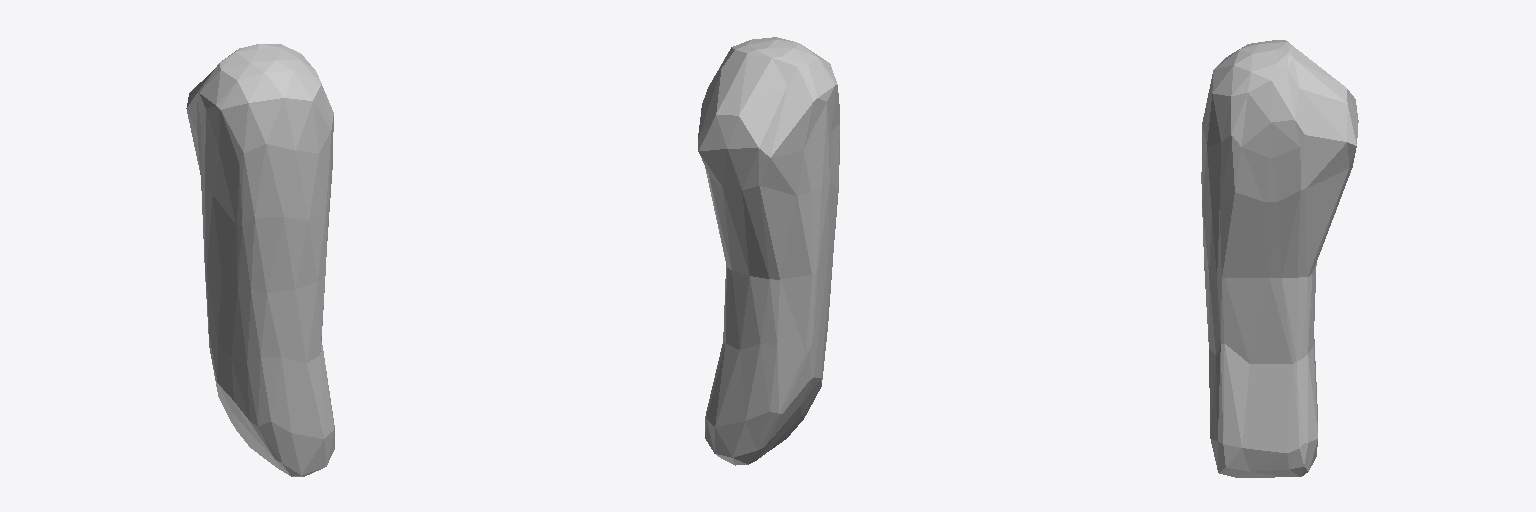
Rendered from rear_right_upper_leg_collision.obj.
3 views of the same model, side by side, from view 1: azimuth 30°, elevation 25°; view 2: azimuth 150°, elevation 25°; view 3: azimuth 270°, elevation 25° (orthographic).
Visible parts, largest first — view 1: rear_right_upper_leg_collision; view 2: rear_right_upper_leg_collision; view 3: rear_right_upper_leg_collision.
Boxes of the visible parts, <box> form: rear_right_upper_leg_collision: <box>186,44,334,476</box>; rear_right_upper_leg_collision: <box>698,37,839,465</box>; rear_right_upper_leg_collision: <box>1201,40,1358,477</box>.
Size of the model in its own units: 0.1208 by 0.4378 by 0.1505.